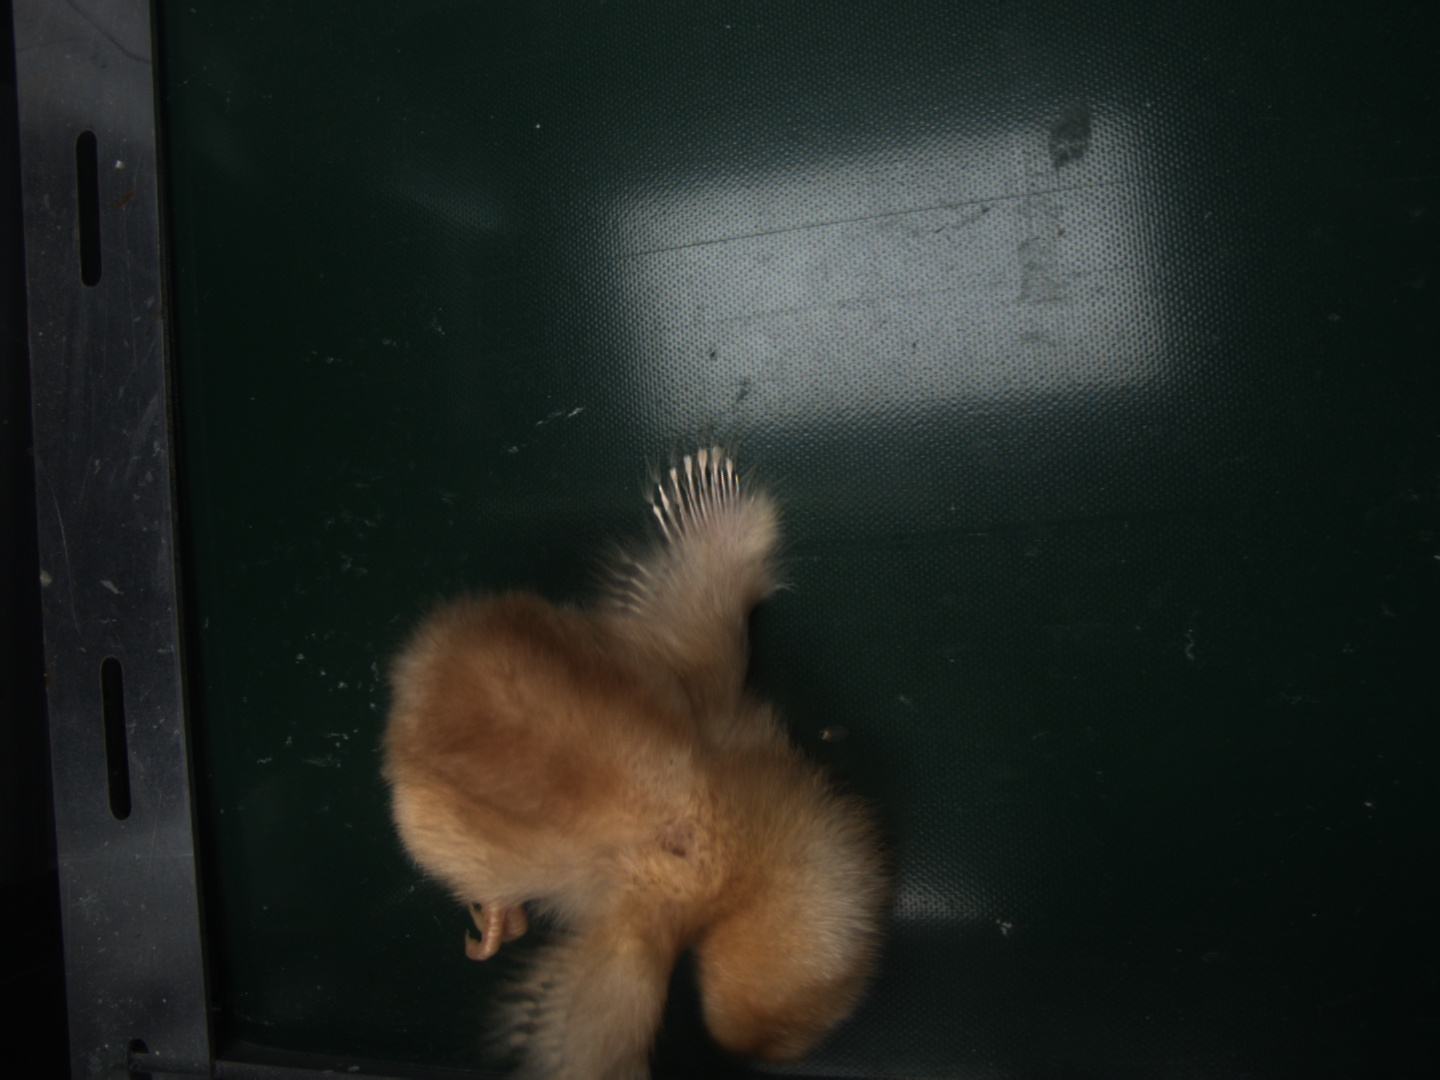female: (647, 445, 746, 549)
